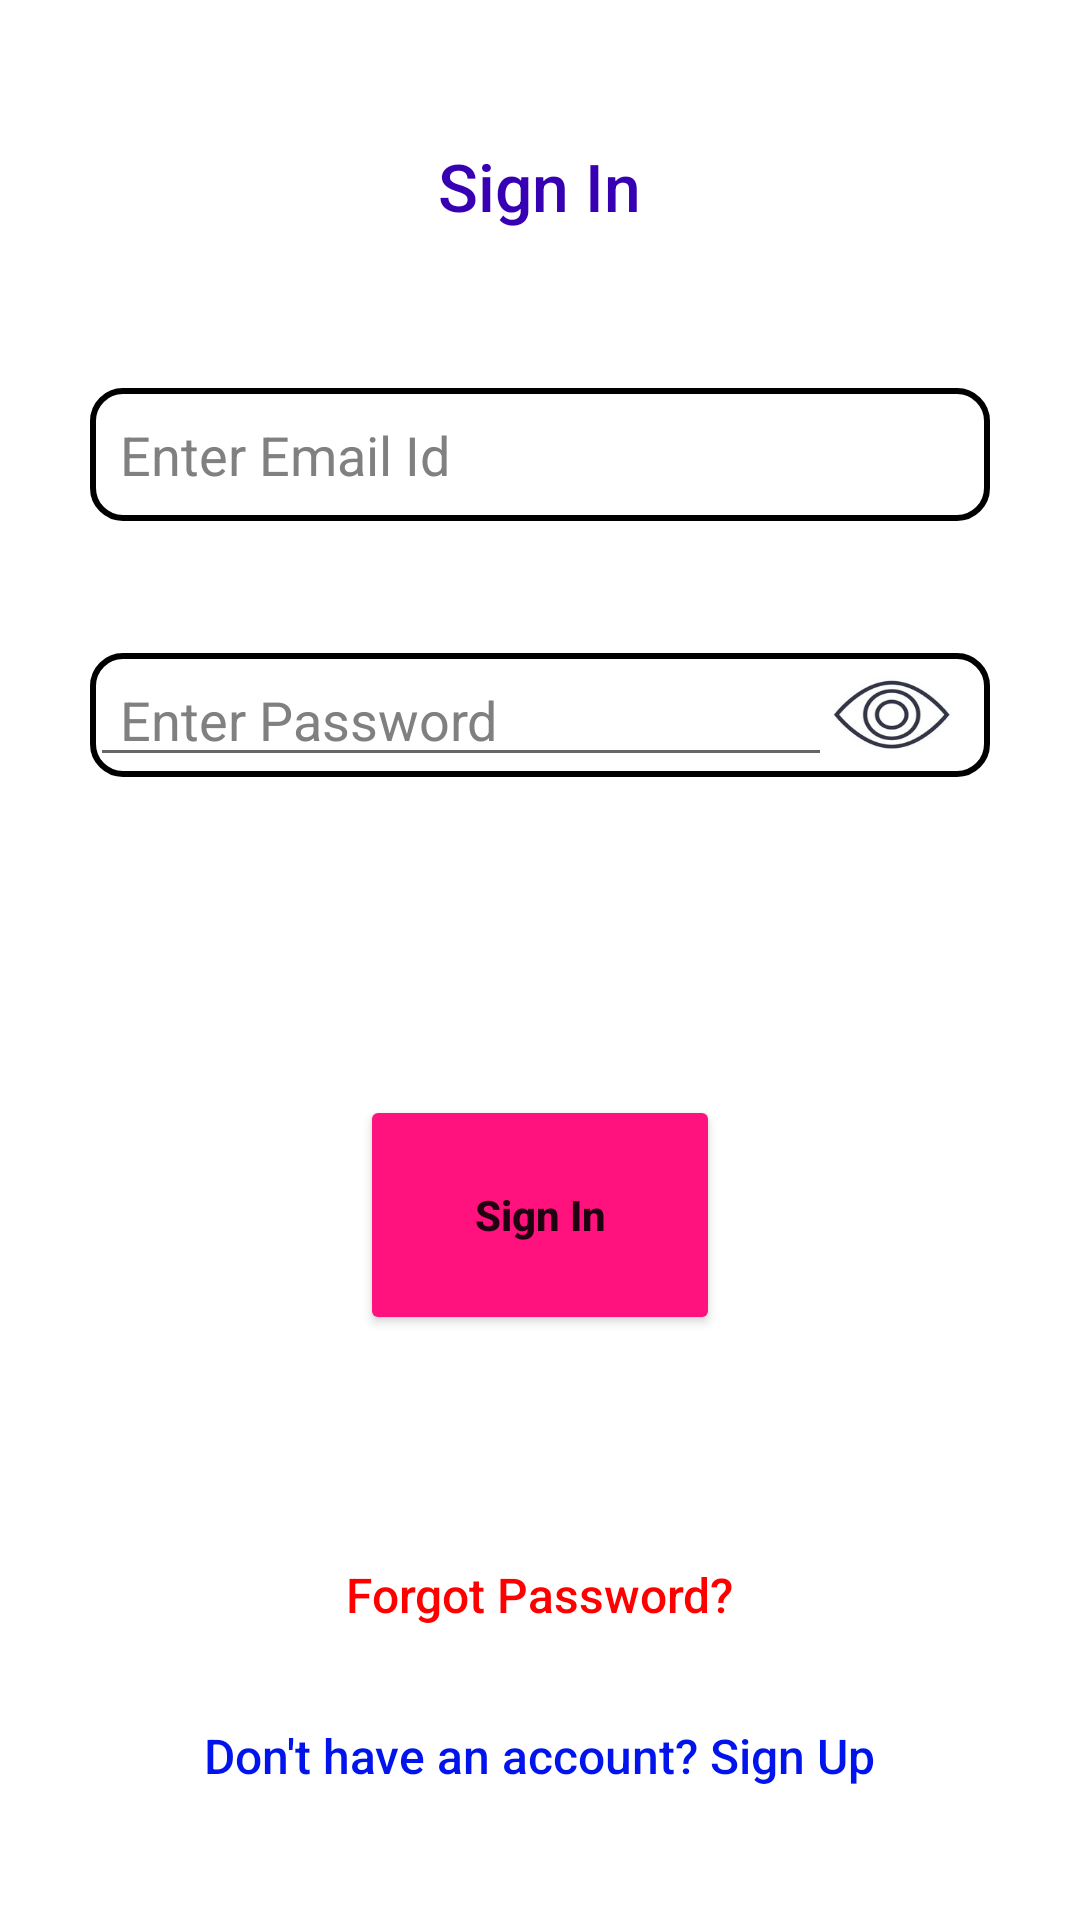

Where icons sit on this 1080 × 1920 app screen, as (x1, y1, x2, y2):
show: (834, 680, 950, 749)
